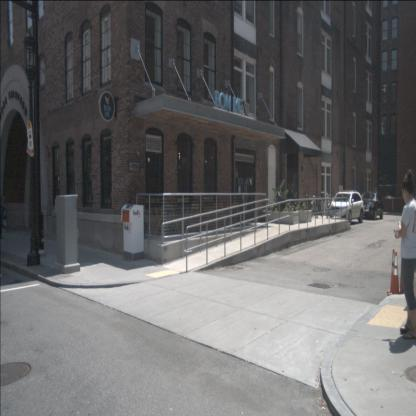cone: (387, 251, 403, 296), (387, 248, 400, 292)
